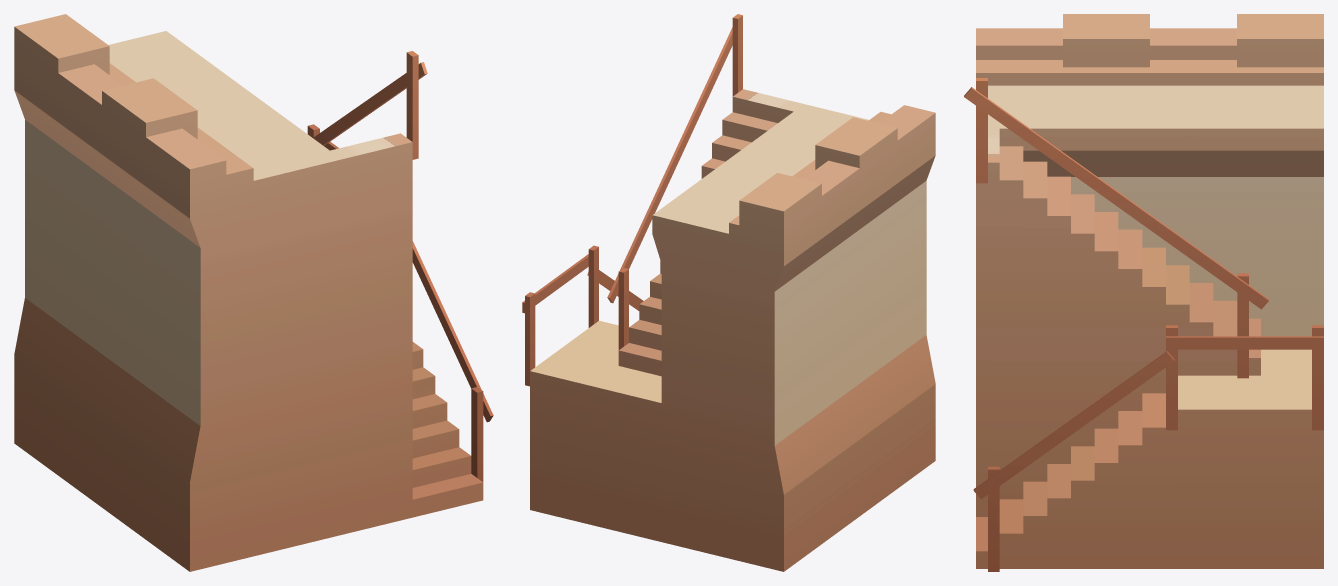
The model's file is kenney-castle-wall-narrow-stairs-rail.glb.
3 views of the same model, side by side, from view 1: azimuth 30°, elevation 25°; view 2: azimuth 150°, elevation 25°; view 3: azimuth 270°, elevation 25° (orthographic). The views are drawn at different scales.
Parts seen in each view (by area): view 1: wall-narrow-stairs-rail; view 2: wall-narrow-stairs-rail; view 3: wall-narrow-stairs-rail.
Boxes of the visible parts, <box> form: wall-narrow-stairs-rail: <box>14,14,493,571</box>; wall-narrow-stairs-rail: <box>522,14,935,571</box>; wall-narrow-stairs-rail: <box>964,14,1323,571</box>.
Bounding box in the file's own units: 0.9949 × 1.45 × 1.03.
1 material, 1 textured.
